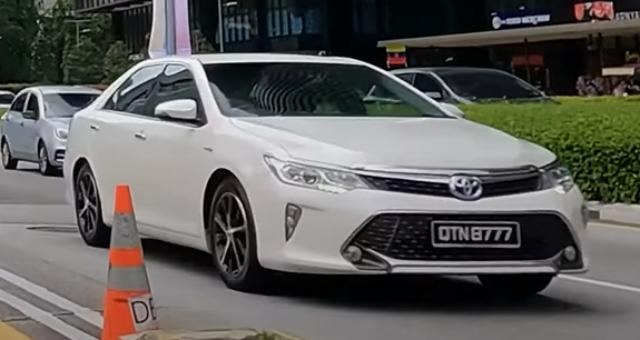License_Plate: (431, 220, 523, 251)
car: (63, 53, 592, 297), (1, 85, 105, 177)
